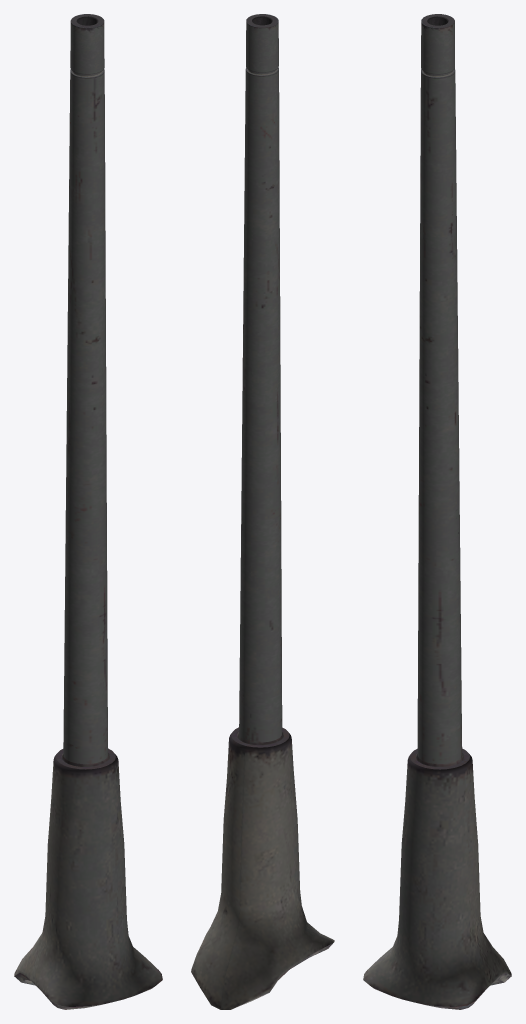
The model's file is Gun_06.glb.
The picture shows the model from 3 angles, left to right: view 1: azimuth 30°, elevation 25°; view 2: azimuth 150°, elevation 25°; view 3: azimuth 330°, elevation 25°; orthographic projection. The views are drawn at different scales.
Parts seen in each view (by area): view 1: set_0_group_0; view 2: set_0_group_0; view 3: set_0_group_0.
Part boxes in pixels (x1=…): set_0_group_0: x1=14, y1=14, x2=162, y2=1009; set_0_group_0: x1=191, y1=14, x2=334, y2=1009; set_0_group_0: x1=363, y1=14, x2=511, y2=1009.
Bounding box in the file's own units: 0.5753 × 4.92 × 0.6263.
Materials: 1 (1 with a texture image).
